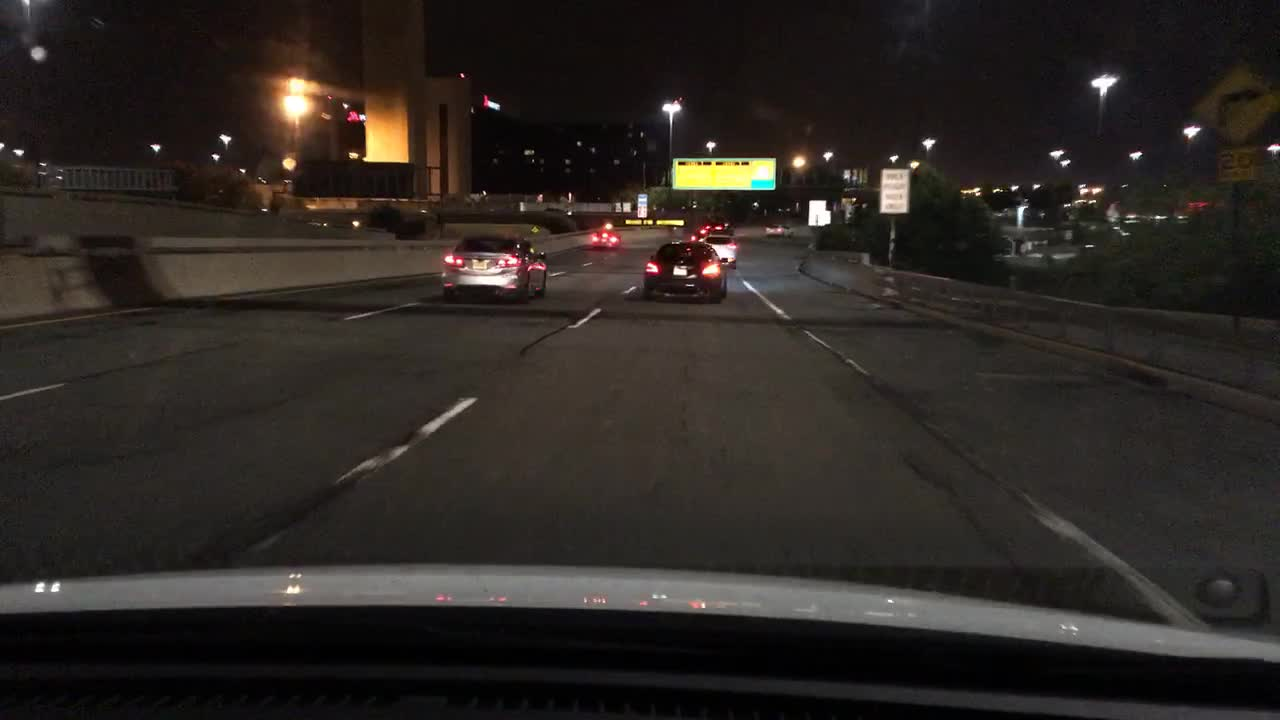car: (439, 233, 549, 301), (642, 239, 724, 305), (704, 234, 737, 271), (589, 232, 622, 249), (764, 223, 794, 237), (706, 221, 735, 234)
traffic sign: (1190, 56, 1279, 146), (674, 158, 775, 191), (1215, 146, 1263, 183), (877, 168, 910, 214), (808, 201, 826, 226), (636, 191, 648, 217), (819, 208, 835, 224)
